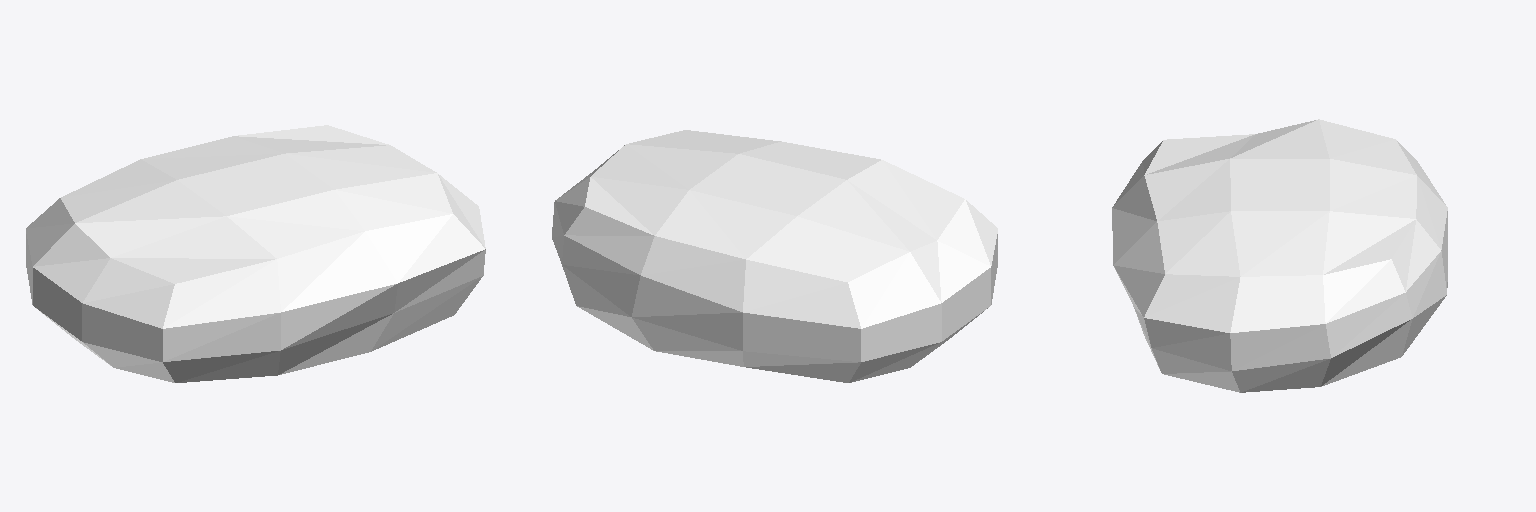
The model's file is Rock3_100.obj.
The picture shows the model from 3 angles: view 1: azimuth 30°, elevation 25°; view 2: azimuth 150°, elevation 25°; view 3: azimuth 270°, elevation 25°; orthographic projection.
Parts seen in each view (by area): view 1: Cube_Cube.001; view 2: Cube_Cube.001; view 3: Cube_Cube.001.
Part boxes in pixels (left/top/right/bottom): Cube_Cube.001: left=26, top=125, right=485, bottom=382; Cube_Cube.001: left=552, top=130, right=997, bottom=382; Cube_Cube.001: left=1112, top=119, right=1447, bottom=392.
Bounding box in the file's own units: 2.84 × 0.973 × 2.08.